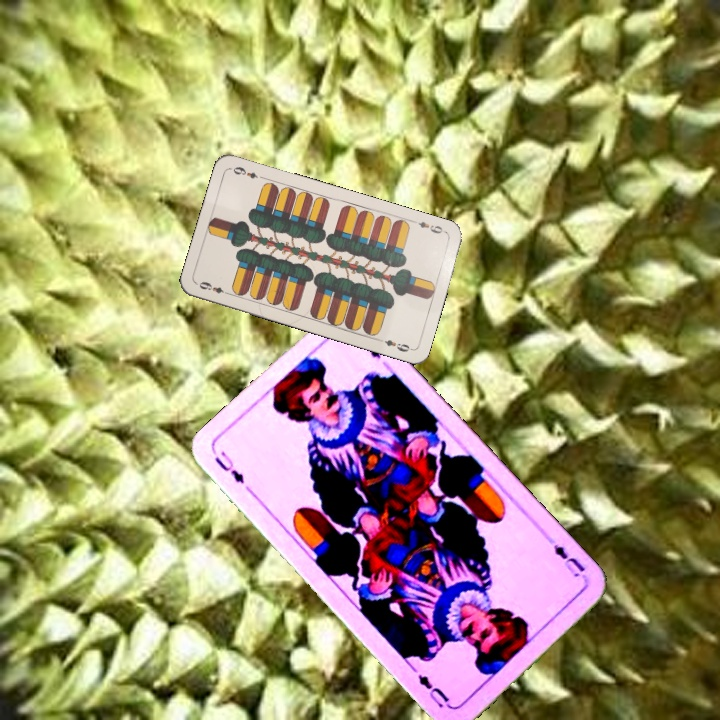E9: (193, 277, 233, 297), (409, 217, 449, 236)
EU: (543, 535, 590, 583), (210, 447, 247, 486)
